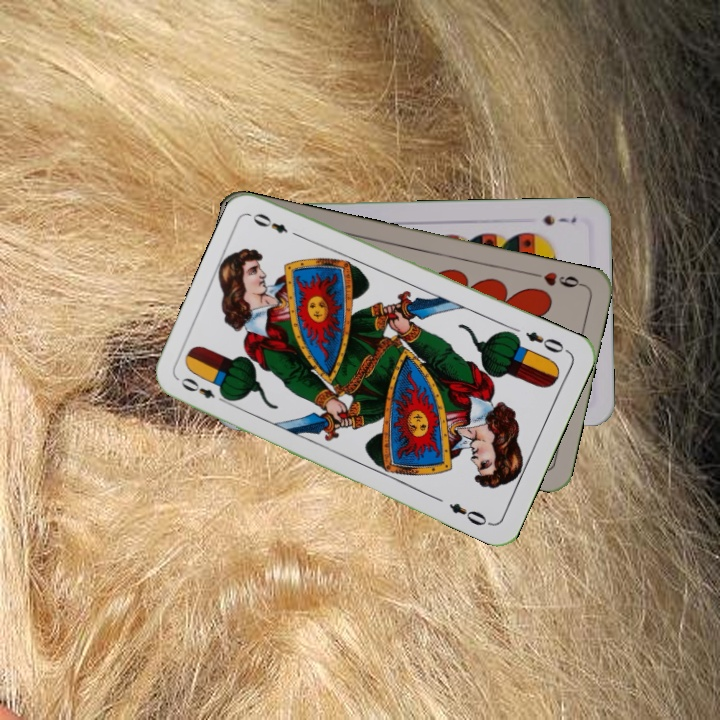EO: (176, 373, 231, 406), (521, 327, 567, 356)
H9: (528, 267, 587, 291)
S7: (539, 211, 579, 228)
